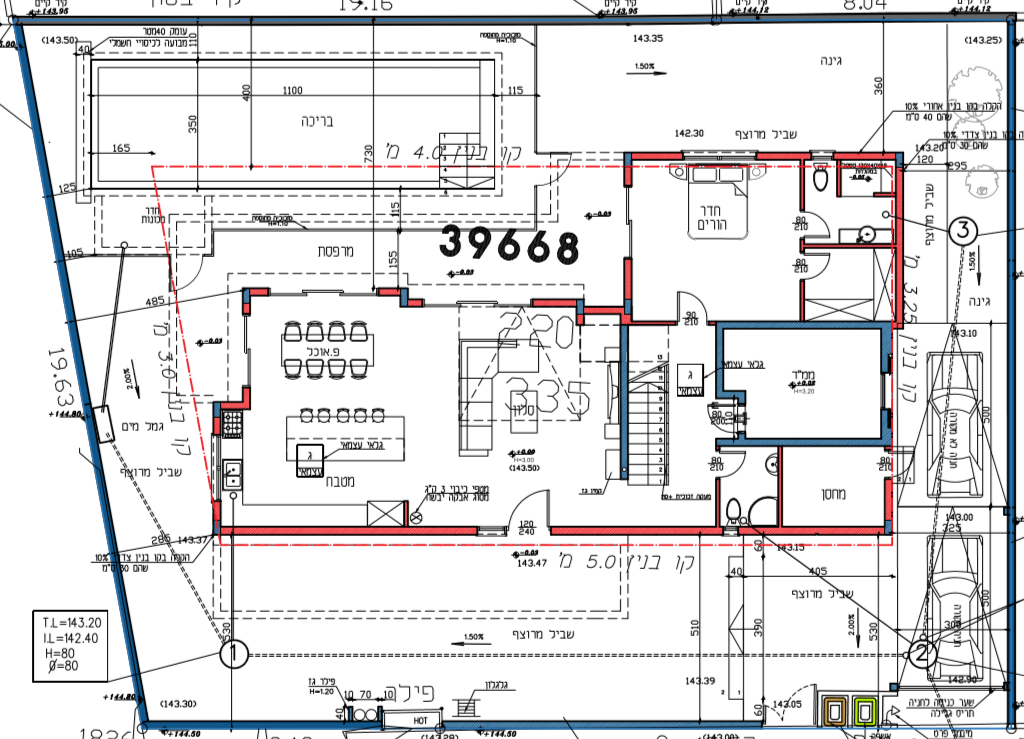door: (509, 484, 554, 524), (806, 206, 835, 243), (720, 448, 751, 482), (674, 286, 712, 313), (805, 254, 836, 284)
wall: (247, 526, 472, 535), (571, 525, 715, 534), (732, 321, 877, 329), (1009, 284, 1013, 505), (897, 175, 901, 322), (769, 529, 878, 534), (750, 440, 884, 444), (622, 328, 625, 464)
window: (235, 310, 260, 394), (618, 178, 637, 266), (679, 147, 758, 163)
